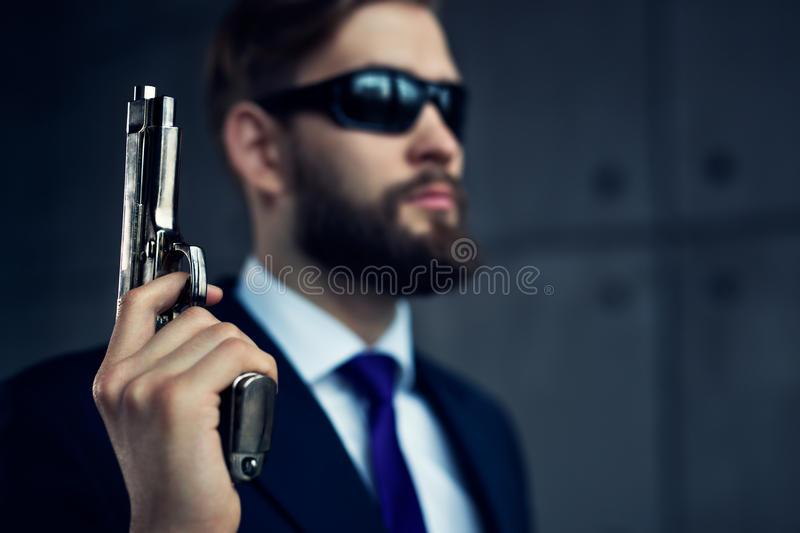criminal: (0, 0, 536, 533)
weapon: (112, 84, 280, 484)
